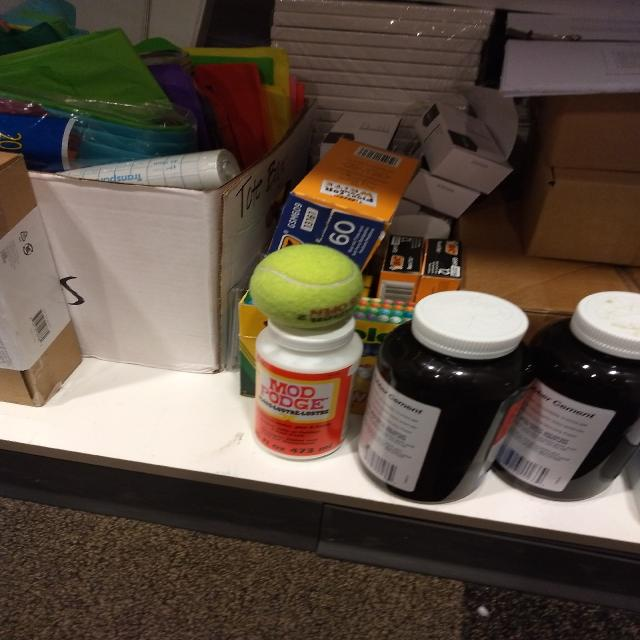tennis-ball: (248, 242, 364, 326)
